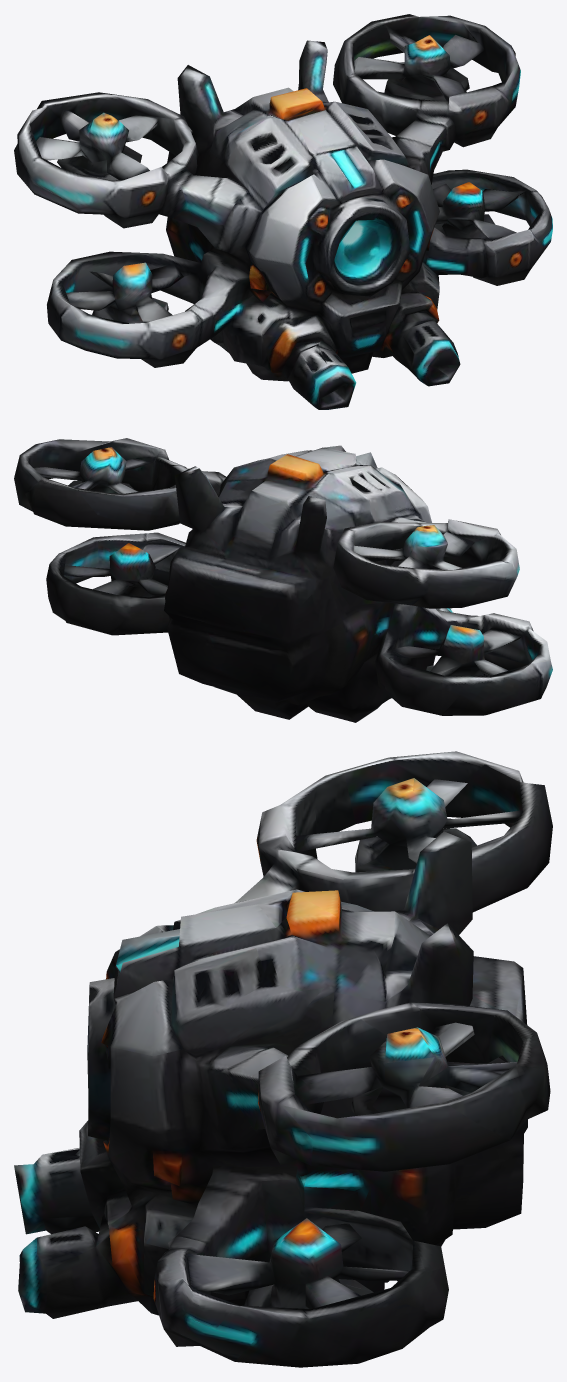
File: GW_SIDEKICK_drone_gun_B.glb
3 renders of one model, top to bottom at view 1: azimuth 30°, elevation 25°; view 2: azimuth 150°, elevation 25°; view 3: azimuth 270°, elevation 25°, orthographic. The views are drawn at different scales.
Parts seen in each view (by area): view 1: tripo_node_1e1ff7df-e79b-428a-9ddd-3ce5e73175dd; view 2: tripo_node_1e1ff7df-e79b-428a-9ddd-3ce5e73175dd; view 3: tripo_node_1e1ff7df-e79b-428a-9ddd-3ce5e73175dd.
Part boxes in pixels (box(x1,y1,x2,y2)): tripo_node_1e1ff7df-e79b-428a-9ddd-3ce5e73175dd: box(14, 14, 552, 409); tripo_node_1e1ff7df-e79b-428a-9ddd-3ce5e73175dd: box(14, 438, 552, 722); tripo_node_1e1ff7df-e79b-428a-9ddd-3ce5e73175dd: box(14, 751, 552, 1367).
Bounding box in the file's own units: 1 × 0.4934 × 0.6162.
1 material, 1 textured.
